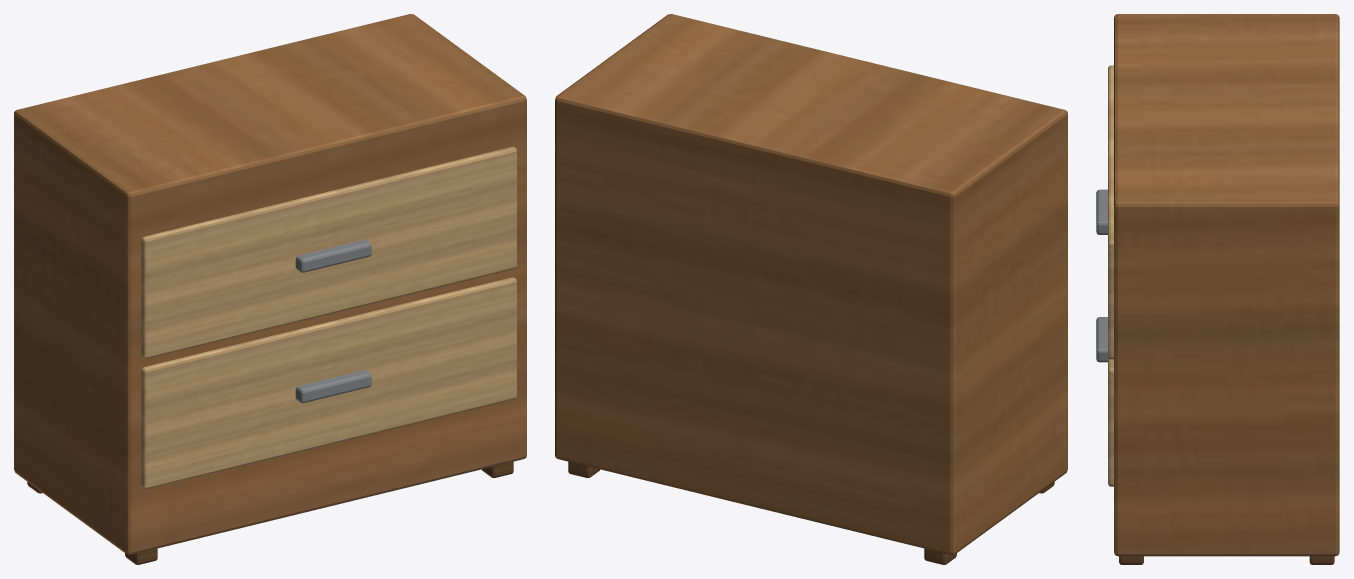
The model's file is dresser.glb.
The picture shows the model from 3 angles, left to right: view 1: azimuth 30°, elevation 25°; view 2: azimuth 150°, elevation 25°; view 3: azimuth 270°, elevation 25°; orthographic projection. The views are drawn at different scales.
Parts seen in each view (by area): view 1: body.003, part_drawer2__dresser, part_drawer1__dresser; view 2: body.003; view 3: body.003, part_drawer1__dresser, part_drawer2__dresser.
Boxes of the visible parts, x1=… form: body.003: x1=14, y1=14, x2=526, y2=554; part_drawer2__dresser: x1=141, y1=277, x2=516, y2=489; part_drawer1__dresser: x1=141, y1=146, x2=516, y2=358; body.003: x1=555, y1=14, x2=1067, y2=554; body.003: x1=1114, y1=14, x2=1339, y2=556; part_drawer1__dresser: x1=1096, y1=65, x2=1113, y2=359; part_drawer2__dresser: x1=1096, y1=317, x2=1113, y2=486.
Size of the model in its own units: 0.9 by 0.81 by 0.485.
5 materials, 4 textured.
